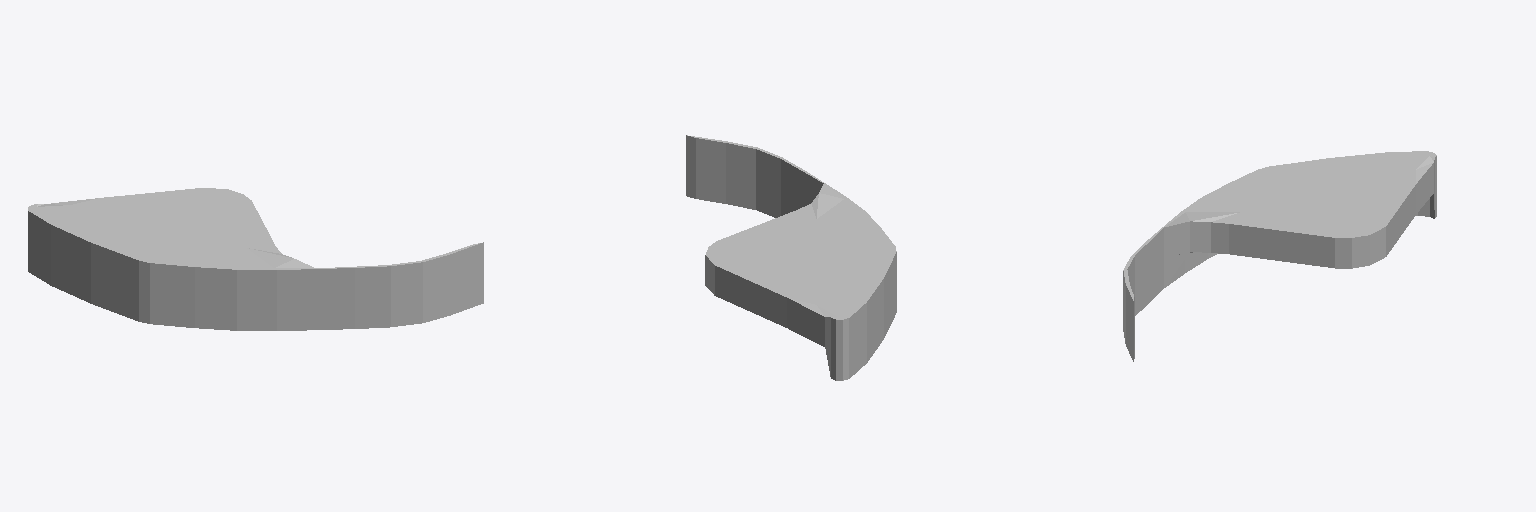
Rendered from Bucket Plastic 1.obj.
3 renders of one model, left to right at view 1: azimuth 30°, elevation 25°; view 2: azimuth 150°, elevation 25°; view 3: azimuth 270°, elevation 25°, orthographic.
Parts seen in each view (by area): view 1: Cube; view 2: Cube; view 3: Cube.
Part boxes in pixels (x1,y1,x2,y2): Cube: (28,188,483,330); Cube: (686,135,896,380); Cube: (1123,151,1436,361).
Size of the model in its own units: 10.59 by 2.07 by 9.29.